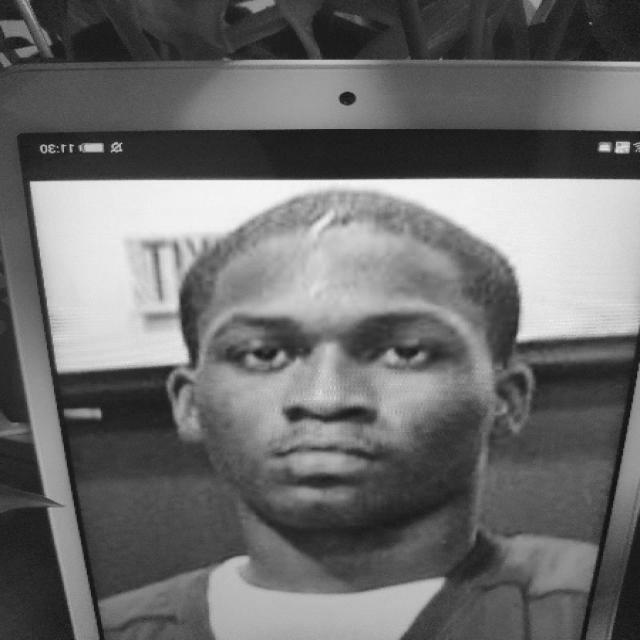fake: (6, 54, 636, 640)
